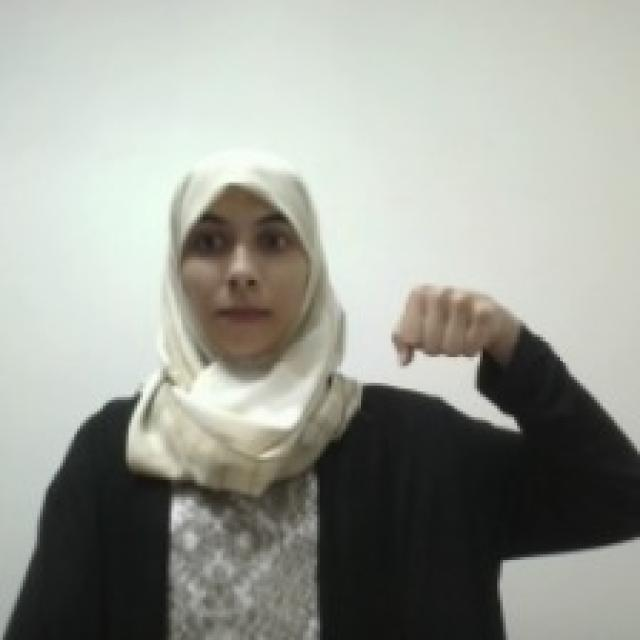yes: (388, 275, 507, 373)
